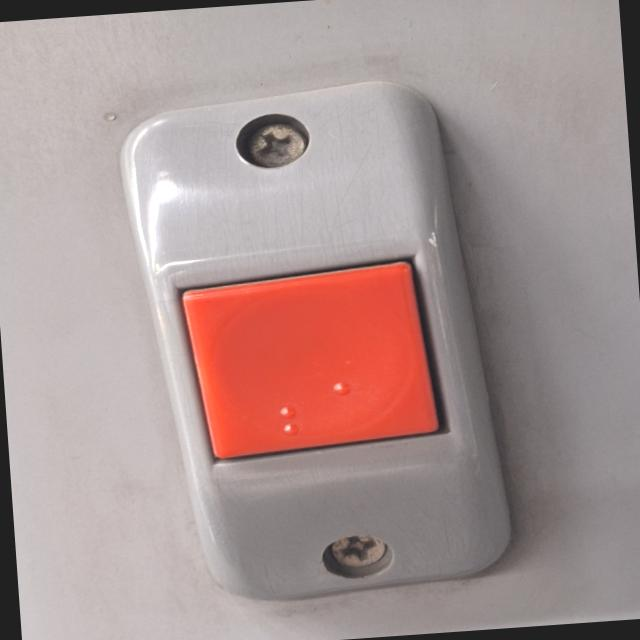Phillips: (226, 114, 325, 174), (317, 530, 408, 588)
